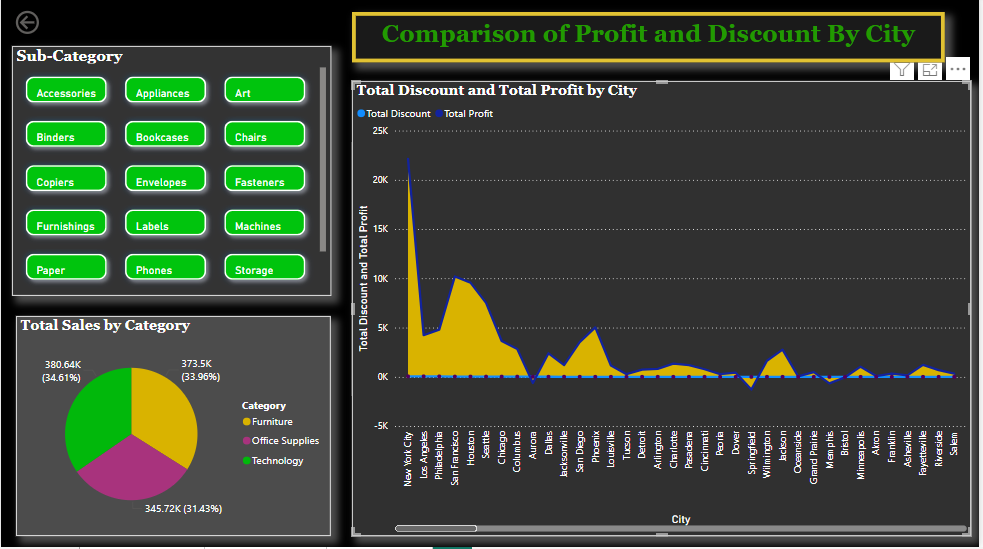

This screenshot's page, from the dashboard's own definition file:
{"tool":"powerbi","page":{"name":"Comparison","canvas":[1280,720],"ordinal":2},"visuals":[{"type":"advancedSlicerVisual","fields":{"Values":["Product.Sub-Category"]},"box":[14.4,64.8,417.6,326.9],"z":0},{"type":"actionButton","box":[14.4,13,99.4,40.3],"z":1000},{"type":"pieChart","fields":{"Category":["Product.Category"],"Y":["Measure.Total Sales"]},"box":[20.2,417.6,411.8,288],"z":2000},{"type":"areaChart","fields":{"Category":["Customer.City"],"Y":["Measure.Total Discount","Measure.Total Profit"]},"box":[459.4,109.4,810.7,596.2],"z":3000},{"type":"textbox","box":[459.4,20.2,776.2,66.2],"z":4000}]}

Visuals, with their boxes in screenshot pixels (x1, y1, x2, y2), scaled from the page's 1280x720 canvas onto the 983x549 screenshot:
advancedSlicerVisual - Product.Sub-Category: [11, 49, 332, 299]
actionButton: [11, 10, 87, 41]
pieChart - Product.Category x Measure.Total Sales: [16, 318, 332, 538]
areaChart - Customer.City x Measure.Total Discount: [353, 83, 975, 538]
textbox: [353, 15, 949, 66]
